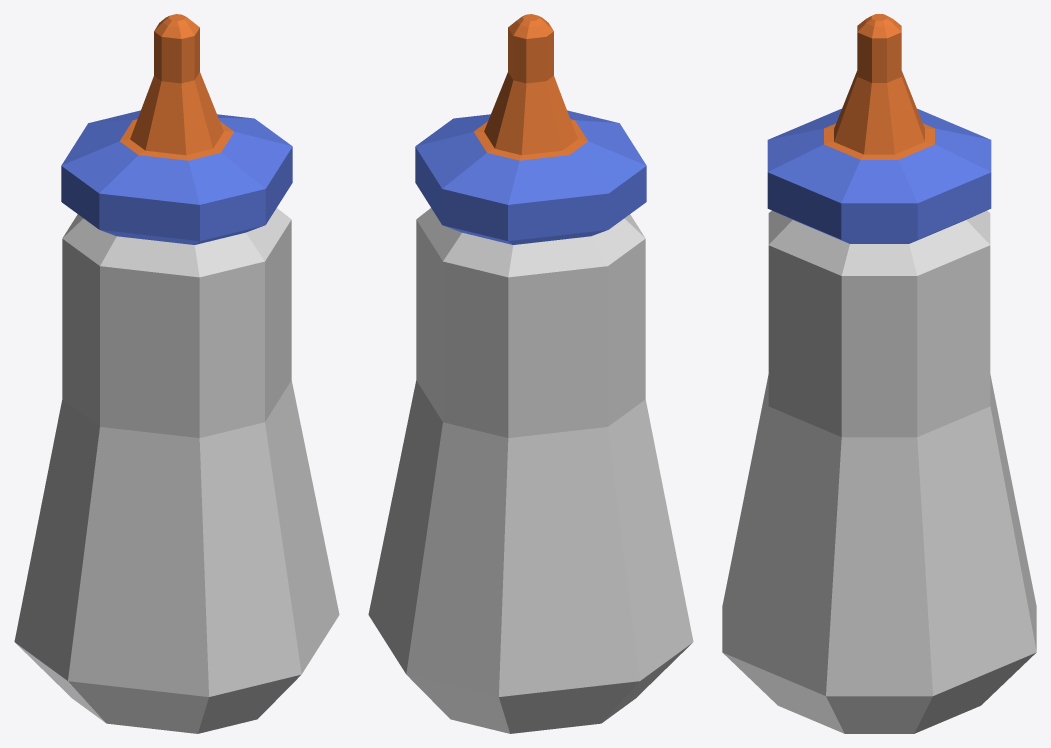
Rendered from BabyBottle.fbx.
The picture shows the model from 3 angles, left to right: view 1: azimuth 30°, elevation 25°; view 2: azimuth 150°, elevation 25°; view 3: azimuth 270°, elevation 25°; orthographic projection.
Visible parts, largest first — view 1: Cube; view 2: Cube; view 3: Cube.
Part boxes in pixels (box(x1,y1,x2,y2)): Cube: box(14, 14, 339, 733); Cube: box(368, 14, 693, 733); Cube: box(722, 14, 1036, 733).
Bounding box in the file's own units: 283 × 670 × 283.
